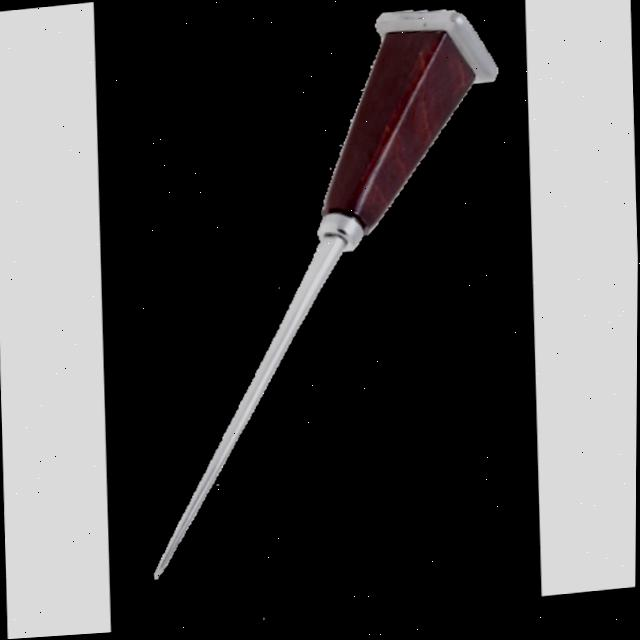ice pick: (134, 4, 514, 584)
